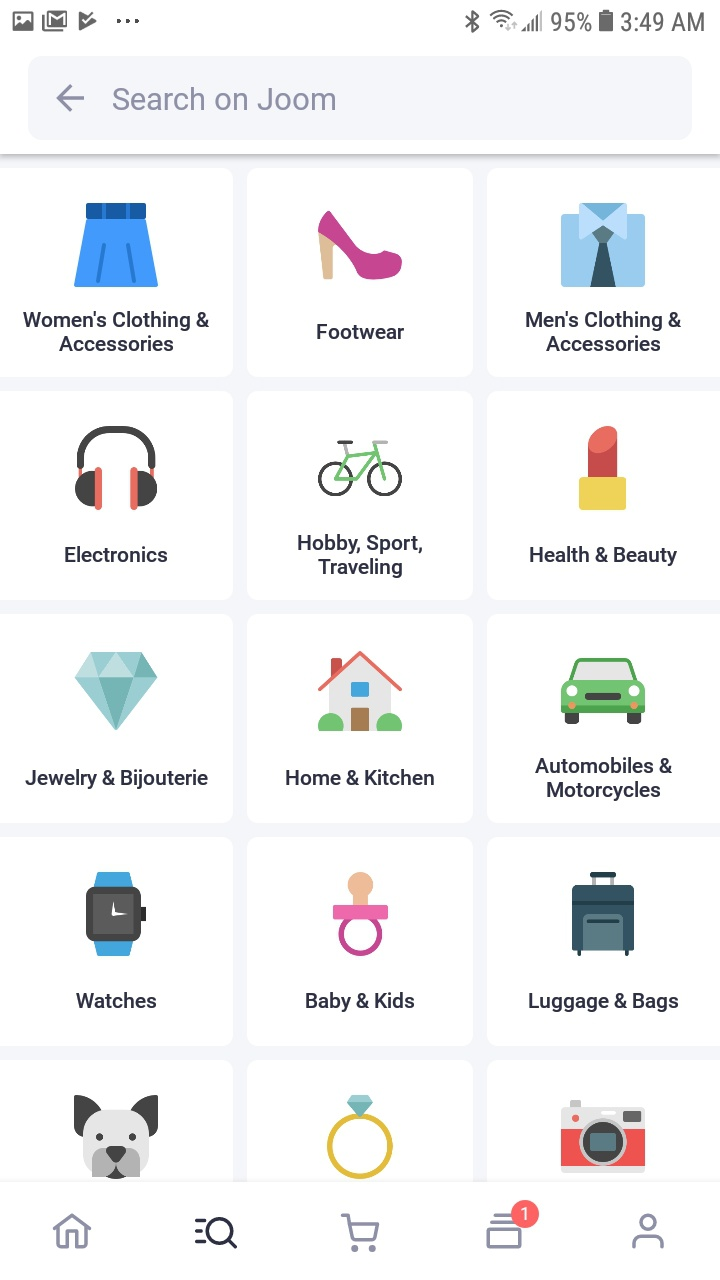EditText: (28, 56, 692, 141)
Icon: (486, 1200, 539, 1249), (341, 1213, 380, 1253), (195, 1217, 238, 1250), (53, 1213, 92, 1249), (632, 1213, 665, 1249), (57, 85, 85, 113)
Image: (74, 204, 160, 289), (560, 203, 645, 288), (74, 1095, 159, 1180), (75, 426, 158, 511), (318, 651, 403, 732), (74, 652, 158, 731), (561, 1099, 646, 1173), (318, 211, 403, 281), (561, 658, 646, 725), (327, 1094, 394, 1179), (572, 872, 635, 957), (86, 872, 147, 957), (318, 440, 403, 497), (333, 872, 389, 957), (578, 426, 626, 511)
Text: (23, 311, 210, 353), (526, 311, 682, 352), (535, 757, 672, 802), (298, 534, 423, 579), (114, 87, 336, 111), (26, 769, 209, 790), (530, 546, 678, 567), (529, 993, 679, 1013), (286, 769, 435, 786), (306, 992, 415, 1013), (65, 546, 168, 563), (317, 324, 405, 340), (76, 992, 157, 1009)
UpperTaskBar: (1, 1, 720, 34)
